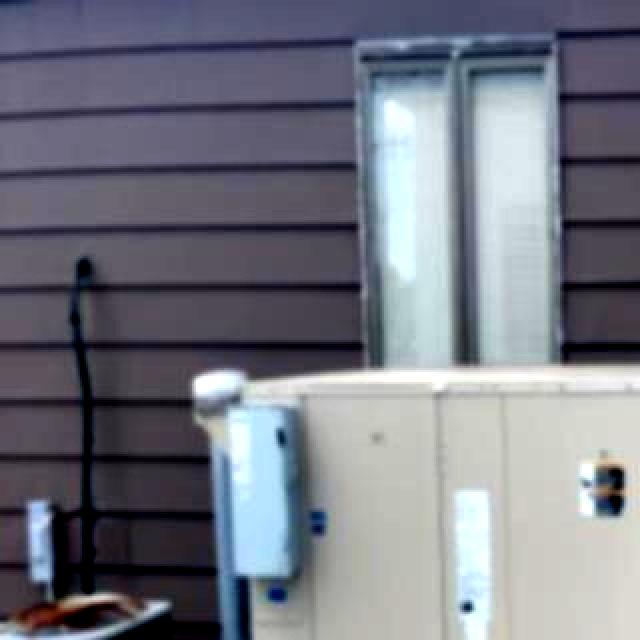RTU: (182, 336, 640, 640)
SPLIT-SYSTEM: (0, 576, 190, 640)
